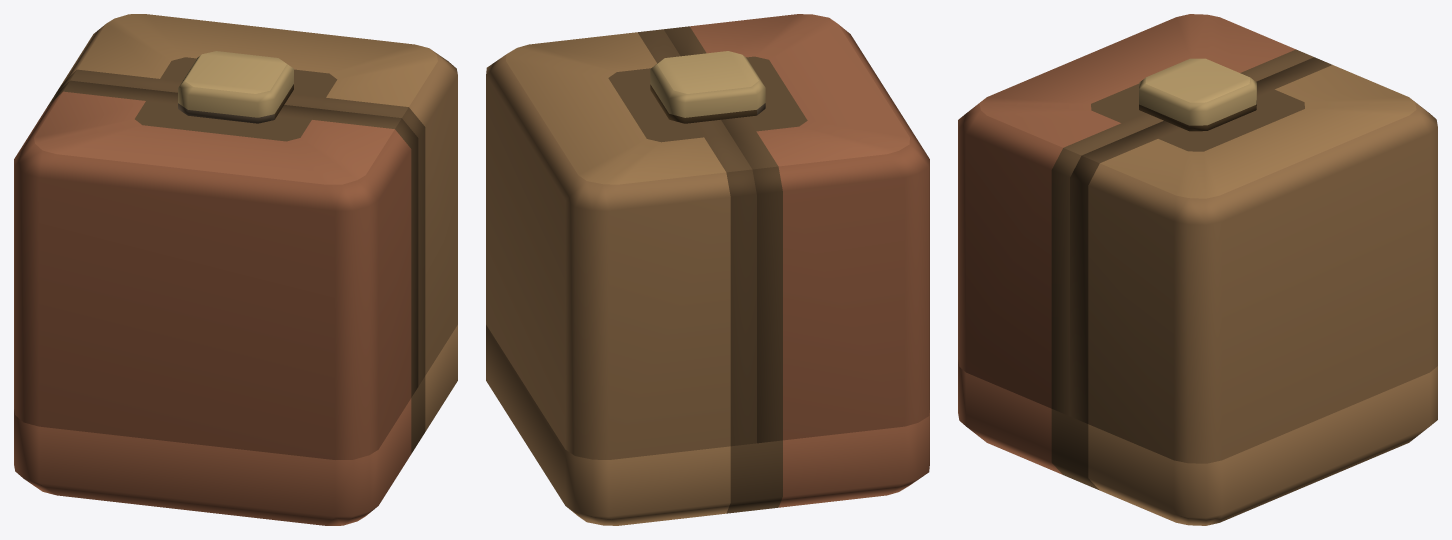
File: guildFieldShop.fbx
3 views of the same model, side by side, from view 1: azimuth 30°, elevation 25°; view 2: azimuth 150°, elevation 25°; view 3: azimuth 270°, elevation 25° (orthographic). The views are drawn at different scales.
Parts seen in each view (by area): view 1: ball_top, ball_under, base, button; view 2: ball_under, ball_top, base, button; view 3: ball_under, ball_top, base, button.
Boxes of the visible parts, x1,y1,x2,y2 form: ball_top: (14,80,418,459); ball_under: (54,14,457,386); base: (14,325,457,525); button: (178,51,293,123); ball_under: (486,29,756,459); ball_top: (664,14,929,443); base: (486,325,929,525); button: (650,51,765,123); ball_under: (1070,57,1437,463); ball_top: (958,14,1313,416); base: (958,360,1437,525); button: (1139,58,1256,131).
Size of what is drawn, in the model's own units: 0.7957 by 0.6456 by 0.7957.
